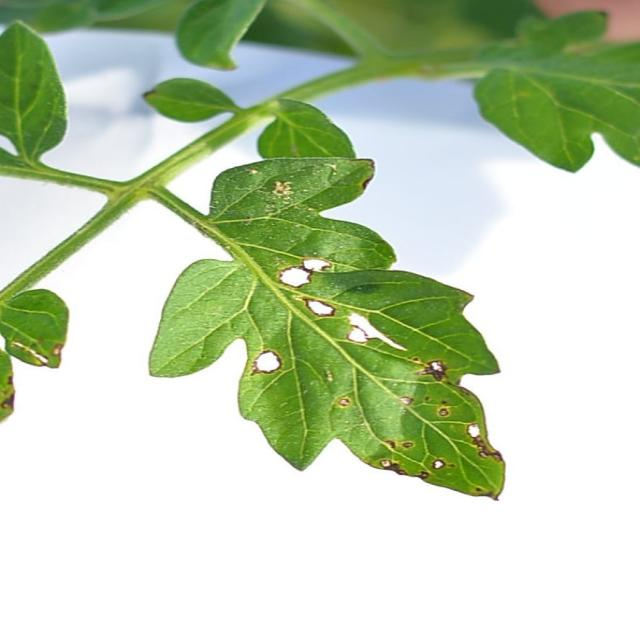infected: (238, 244, 517, 507), (3, 310, 65, 429)
